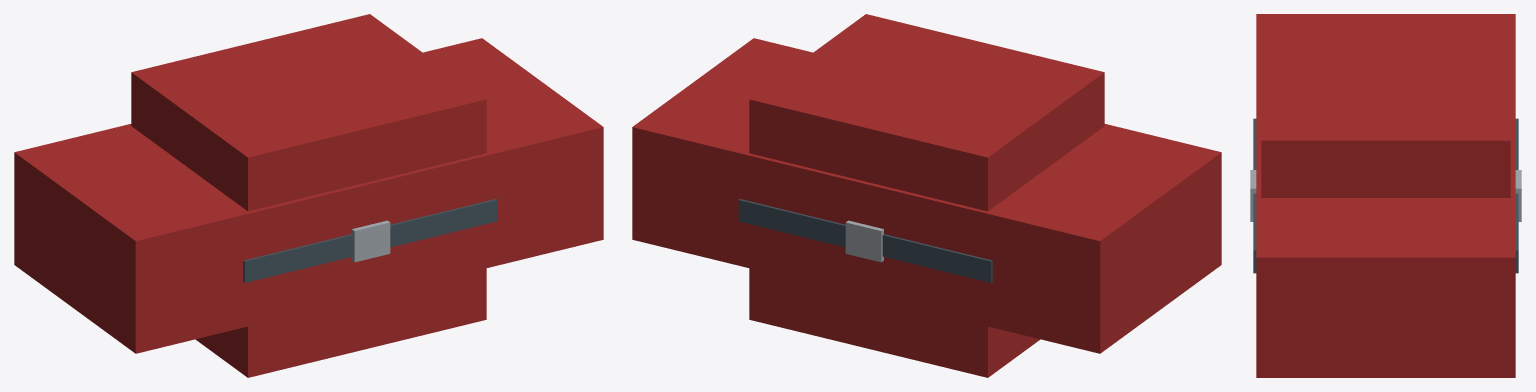
File: terminal_tractor.dae
3 views of the same model, side by side, from view 1: azimuth 30°, elevation 25°; view 2: azimuth 150°, elevation 25°; view 3: azimuth 270°, elevation 25° (orthographic). The views are drawn at different scales.
Parts seen in each view (by area): view 1: engine_and_frame, cab, roof, front_bumper; view 2: engine_and_frame, cab, roof, front_bumper; view 3: engine_and_frame, cab, roof, front_bumper.
Part boxes in pixels (x1,y1,x2,y2): engine_and_frame: [14, 38, 603, 353]; cab: [131, 14, 486, 377]; roof: [243, 199, 497, 282]; front_bumper: [352, 220, 390, 262]; engine_and_frame: [632, 38, 1221, 353]; cab: [749, 14, 1104, 377]; roof: [738, 199, 992, 282]; front_bumper: [845, 220, 883, 262]; engine_and_frame: [1256, 14, 1515, 377]; cab: [1261, 16, 1510, 197]; roof: [1253, 118, 1518, 273]; front_bumper: [1250, 170, 1521, 221].
Size of the model in its own units: 5 by 2.35 by 2.25.
